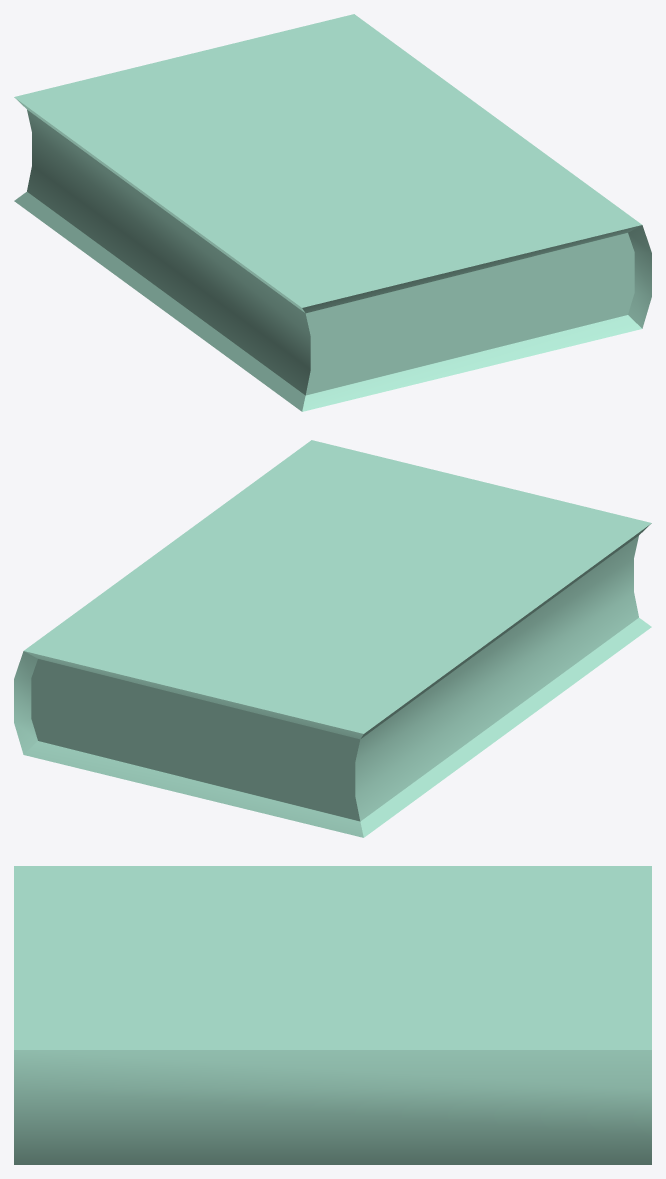
Rendered from bookold1.fbx.
3 views of the same model, one above another, from view 1: azimuth 30°, elevation 25°; view 2: azimuth 150°, elevation 25°; view 3: azimuth 270°, elevation 25° (orthographic). The views are drawn at different scales.
Visible parts, largest first — view 1: AF_household_book_5; view 2: AF_household_book_5; view 3: AF_household_book_5.
Boxes of the visible parts, x1,y1,x2,y2 form: AF_household_book_5: (14, 14, 651, 411); AF_household_book_5: (14, 440, 651, 837); AF_household_book_5: (14, 866, 651, 1164).
Bounding box in the file's own units: 40.27 × 11.44 × 57.45.
